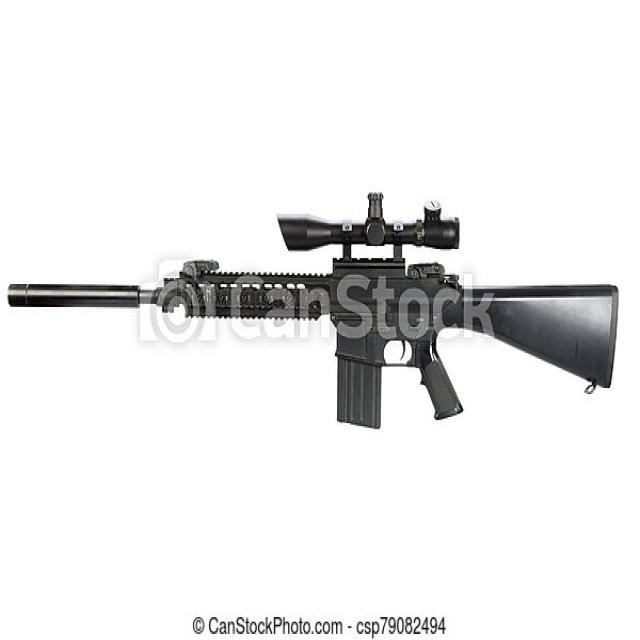Rifle: (6, 192, 621, 431)
